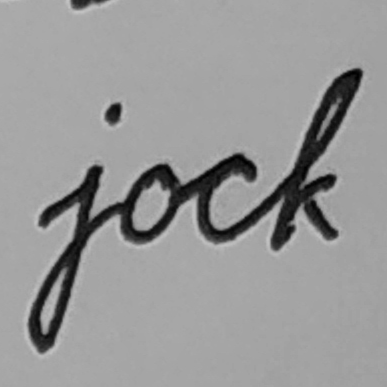c: (190, 144, 263, 247)
j: (22, 97, 125, 358)
k: (265, 64, 365, 253)
o: (117, 155, 188, 251)
